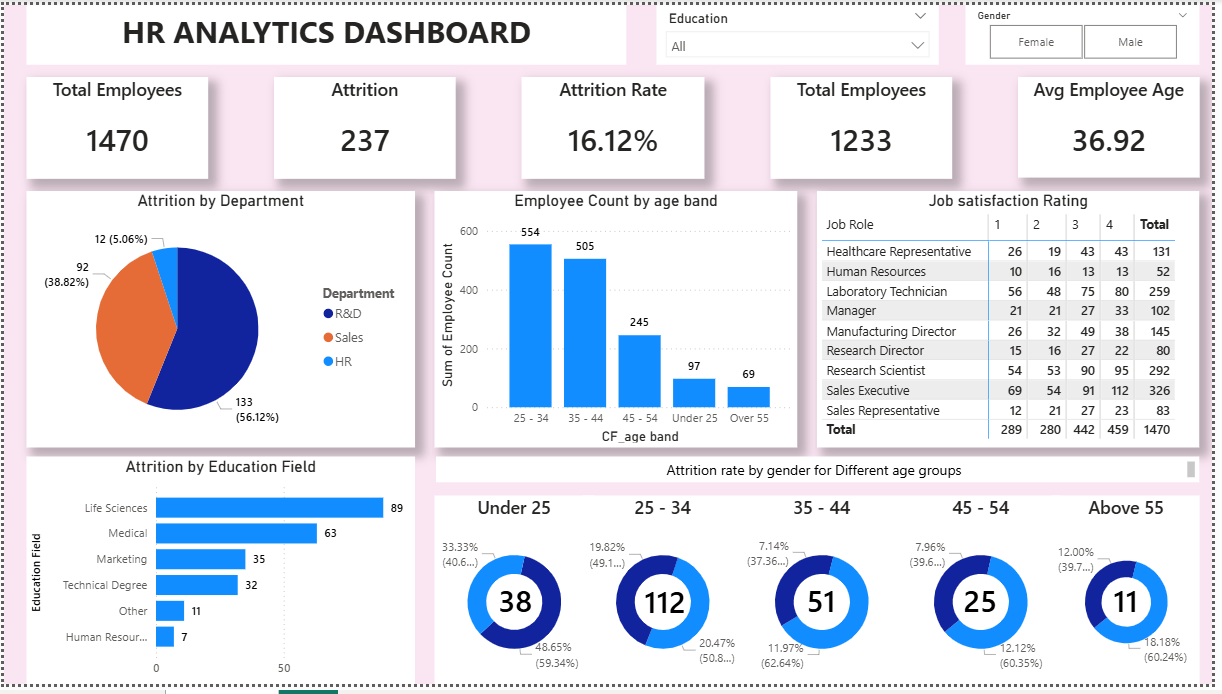

What the dashboard file says about the page in this screenshot:
{"tool":"powerbi","page":{"name":"Page 1","canvas":[1280,720],"ordinal":0},"visuals":[{"type":"card","title":"Total Employees","fields":{"Values":["Sum(HR data.Employee Count)"]},"box":[23.9,76.3,192.5,108.2],"z":0},{"type":"card","title":"Attrition","fields":{"Values":["Sum(HR data.attrition no)"]},"box":[286.3,76.3,192.5,108.2],"z":1000},{"type":"card","title":"Attrition Rate","fields":{"Values":["HR data.attrition rate"]},"box":[548.8,76.3,194.1,108.2],"z":2000},{"type":"card","title":"Total Employees","fields":{"Values":["HR data.Active Employee"]},"box":[812.8,76.3,192.5,108.2],"z":3000},{"type":"card","title":"Avg Employee Age","fields":{"Values":["Avg(HR data.Age)"]},"box":[1075.3,76.3,192.5,106.6],"z":4000},{"type":"pieChart","title":"Attrition by Department","fields":{"Category":["HR data.Department"],"Y":["Sum(HR data.attrition no)"]},"box":[23.9,197.2,412,272],"z":5000},{"type":"columnChart","title":"Employee Count by age band","fields":{"Category":["HR data.CF_age band"],"Y":["Sum(HR data.Employee Count)"]},"box":[456.5,197.2,384.9,272],"z":6000},{"type":"pivotTable","title":"Job satisfaction Rating","fields":{"Rows":["HR data.Job Role"],"Values":["Sum(HR data.Employee Count)"],"Columns":["HR data.Job Satisfaction"]},"box":[862.1,197.2,405.6,272],"z":6001},{"type":"barChart","title":"Attrition by Education Field","fields":{"Category":["HR data.Education Field"],"Y":["Sum(HR data.attrition no)"]},"box":[24.6,478.1,412,241.9],"z":6002},{"type":"donutChart","title":"Under 25","fields":{"Y":["HR data.attrition rate"],"Category":["HR data.Gender"],"Series":["HR data.CF_age band"]},"box":[456.5,520.1,168.6,200.4],"z":6003},{"type":"textbox","box":[458.1,478.8,809.6,27],"z":6004},{"type":"donutChart","title":"25 - 34","fields":{"Y":["HR data.attrition rate"],"Category":["HR data.Gender"],"Series":["HR data.CF_age band"]},"box":[614,520.1,168.6,200.4],"z":6005},{"type":"donutChart","title":"35 - 44","fields":{"Y":["HR data.attrition rate"],"Category":["HR data.Gender"],"Series":["HR data.CF_age band"]},"box":[782.6,520.1,168.6,200.4],"z":6006},{"type":"donutChart","title":"45 - 54","fields":{"Y":["HR data.attrition rate"],"Category":["HR data.Gender"],"Series":["HR data.CF_age band"]},"box":[951.2,520.1,168.6,200.4],"z":6007},{"type":"donutChart","title":"Above 55","fields":{"Y":["HR data.attrition rate"],"Category":["HR data.Gender"],"Series":["HR data.CF_age band"]},"box":[1111.8,520.1,155.9,200.4],"z":6008},{"type":"card","fields":{"Values":["Sum(HR data.attrition no)"]},"box":[500.8,599.1,81.3,62.4],"z":6009},{"type":"card","fields":{"Values":["Sum(HR data.attrition no)"]},"box":[659.5,600.9,81.3,62.4],"z":6010},{"type":"card","fields":{"Values":["Sum(HR data.attrition no)"]},"box":[825.8,599.1,81.3,62.4],"z":6011},{"type":"card","fields":{"Values":["Sum(HR data.attrition no)"]},"box":[994,599.1,81.3,62.4],"z":6012},{"type":"card","fields":{"Values":["Sum(HR data.attrition no)"]},"box":[1149,599.1,81.3,62.4],"z":6013},{"type":"textbox","box":[23.9,0,636.2,63.6],"z":6014},{"type":"slicer","fields":{"Values":["HR data.Gender"]},"box":[1019.6,0,248.1,63.6],"z":6015},{"type":"slicer","fields":{"Values":["HR data.Education"]},"box":[691.9,0,299,63.6],"z":6016}]}

Visuals, with their boxes in screenshot pixels (x1, y1, x2, y2), scaled from the page's 1280x720 canvas onto the 1222x694 screenshot:
"Total Employees" card: (left=23, top=74, right=207, bottom=178)
"Attrition" card: (left=273, top=74, right=457, bottom=178)
"Attrition Rate" card: (left=524, top=74, right=709, bottom=178)
"Total Employees" card: (left=776, top=74, right=960, bottom=178)
"Avg Employee Age" card: (left=1027, top=74, right=1210, bottom=176)
"Attrition by Department" pieChart: (left=23, top=190, right=416, bottom=452)
"Employee Count by age band" columnChart: (left=436, top=190, right=803, bottom=452)
"Job satisfaction Rating" pivotTable: (left=823, top=190, right=1210, bottom=452)
"Attrition by Education Field" barChart: (left=23, top=461, right=417, bottom=693)
"Under 25" donutChart: (left=436, top=501, right=597, bottom=693)
textbox: (left=437, top=462, right=1210, bottom=488)
"25 - 34" donutChart: (left=586, top=501, right=747, bottom=693)
"35 - 44" donutChart: (left=747, top=501, right=908, bottom=693)
"45 - 54" donutChart: (left=908, top=501, right=1069, bottom=693)
"Above 55" donutChart: (left=1061, top=501, right=1210, bottom=693)
card - Sum(HR data.attrition no): (left=478, top=577, right=556, bottom=638)
card - Sum(HR data.attrition no): (left=630, top=579, right=707, bottom=639)
card - Sum(HR data.attrition no): (left=788, top=577, right=866, bottom=638)
card - Sum(HR data.attrition no): (left=949, top=577, right=1027, bottom=638)
card - Sum(HR data.attrition no): (left=1097, top=577, right=1175, bottom=638)
textbox: (left=23, top=0, right=630, bottom=61)
slicer - HR data.Gender: (left=973, top=0, right=1210, bottom=61)
slicer - HR data.Education: (left=661, top=0, right=946, bottom=61)
